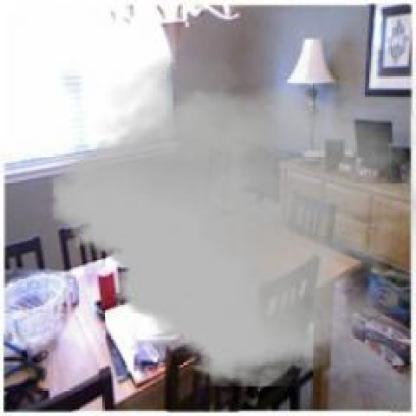Smoke: (50, 46, 414, 394)
